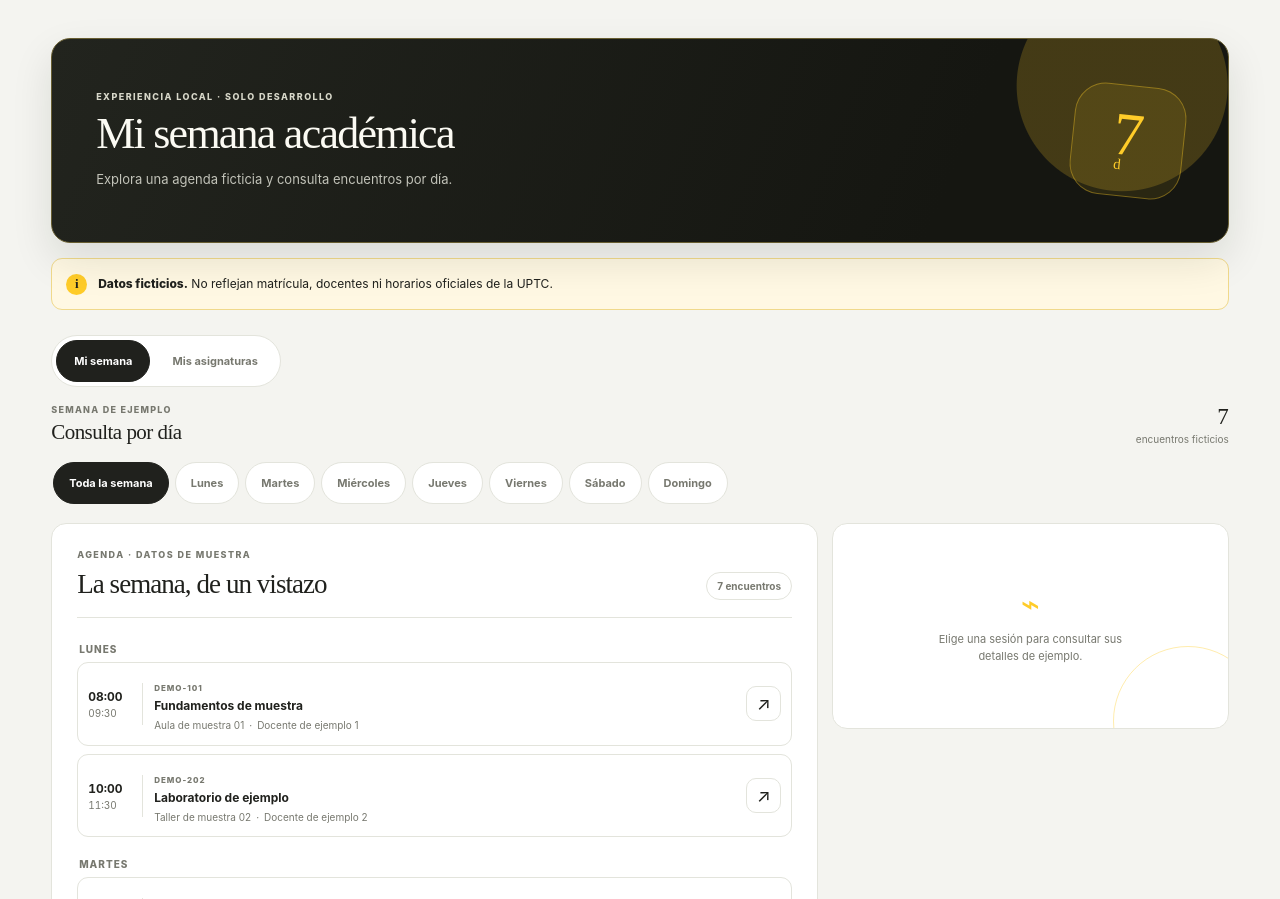
Test: MyAcademicWeekDemo › filters sessions by selected weekday without changing the agenda data
Click the button "Martes".
click(280, 483)  # box left=245, top=462, right=315, bottom=504
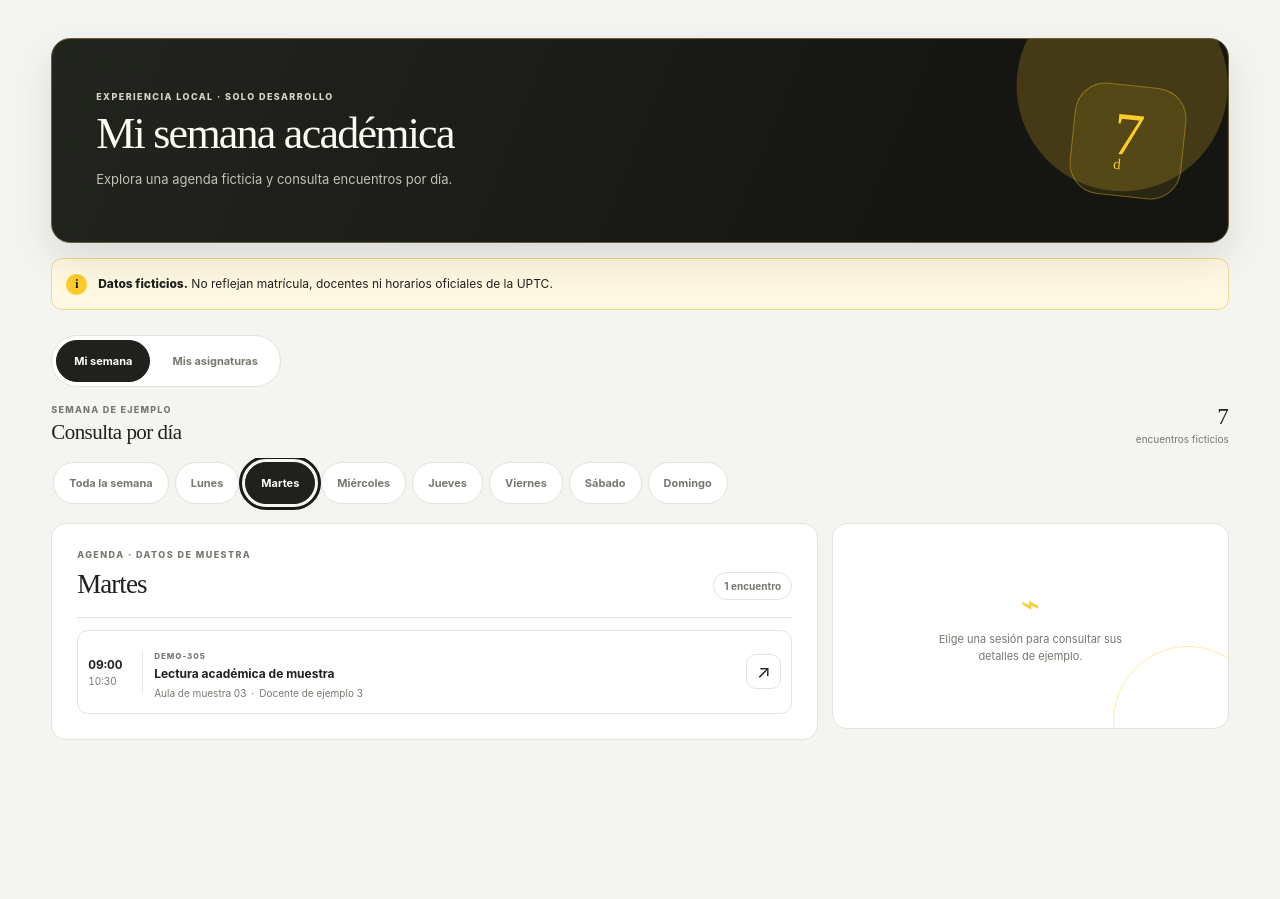
Expected: the heading "Lectura académica de muestra" is shown, left=154, top=666, right=334, bottom=681
Expected: the heading "Martes" is shown, left=77, top=569, right=146, bottom=599
Expected: the heading "Laboratorio de ejemplo" is gone
